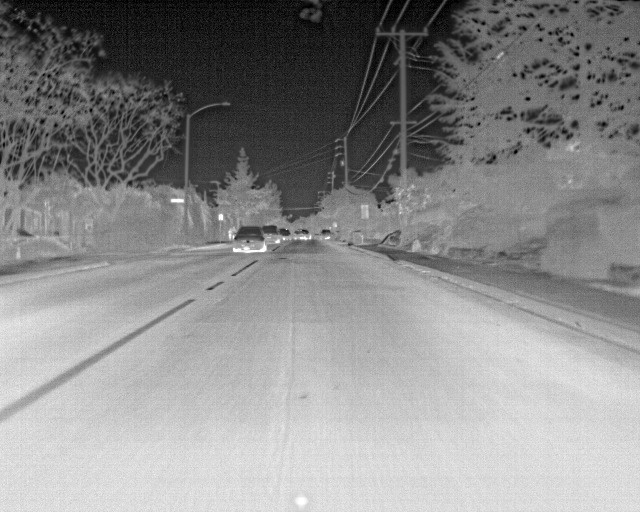vehicle: (231, 224, 268, 255), (259, 224, 286, 247), (292, 226, 317, 245)
